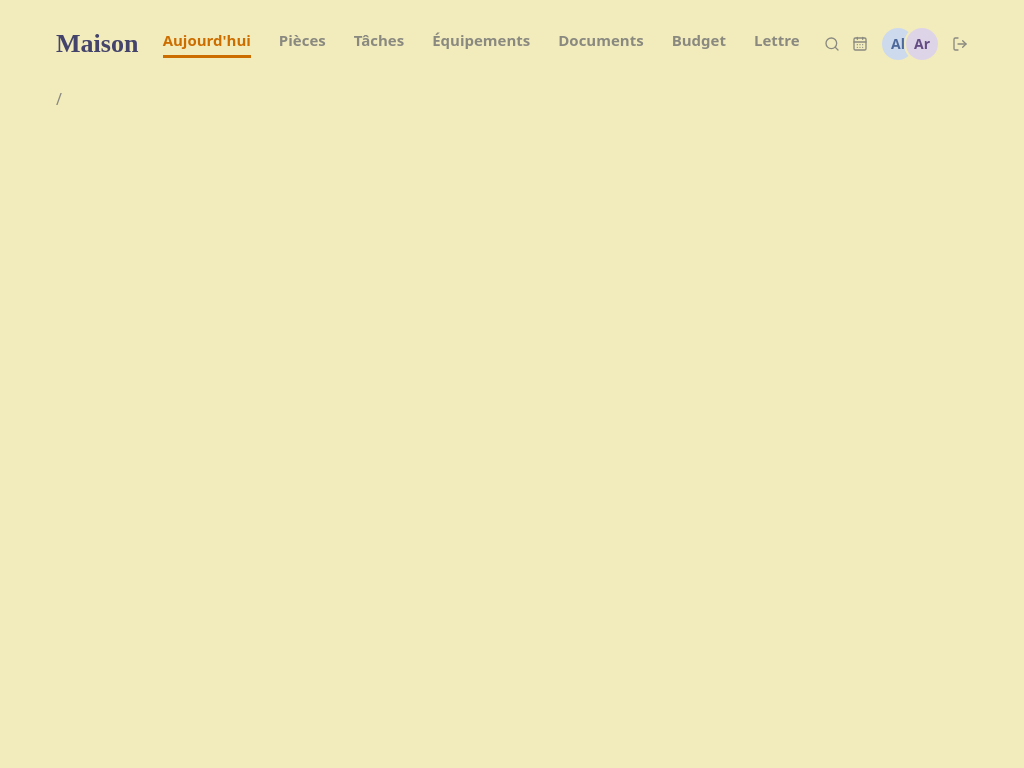
Test: une tâche s’ouvre dans son éditeur, sans changer de page
Type keys "/"
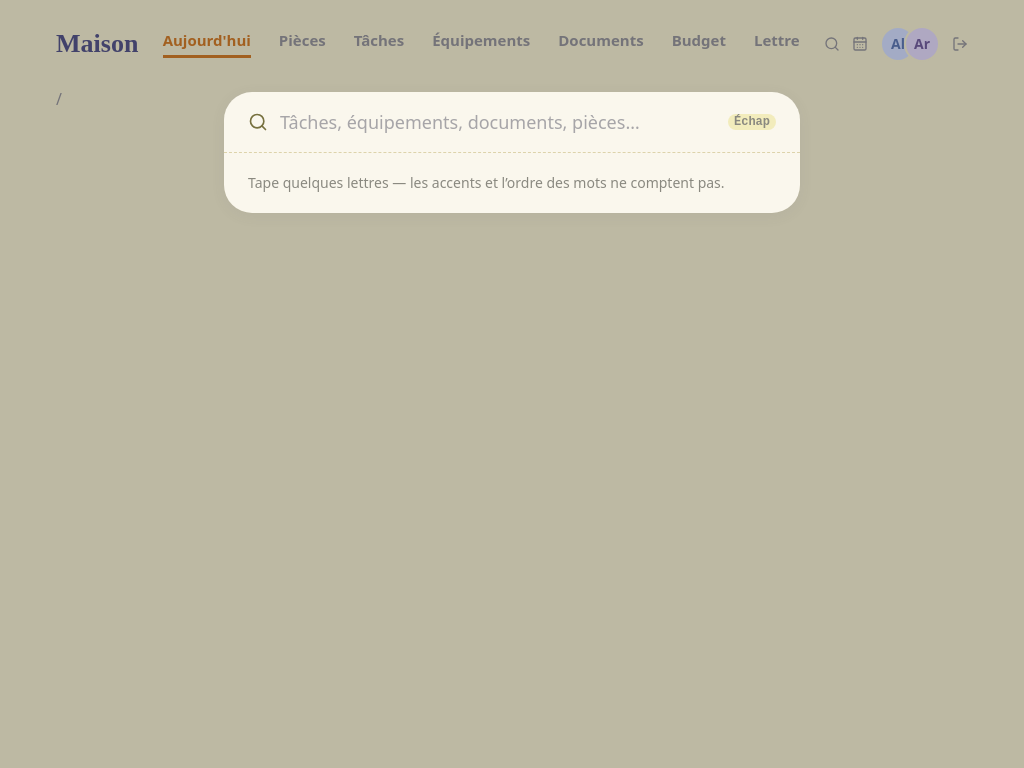
Note: Sans accents et dans le désordre.
In the dropdown named "Chercher dans la maison": (498, 122) x1=280 y1=108 x2=716 y2=136, type "adresse saaq"
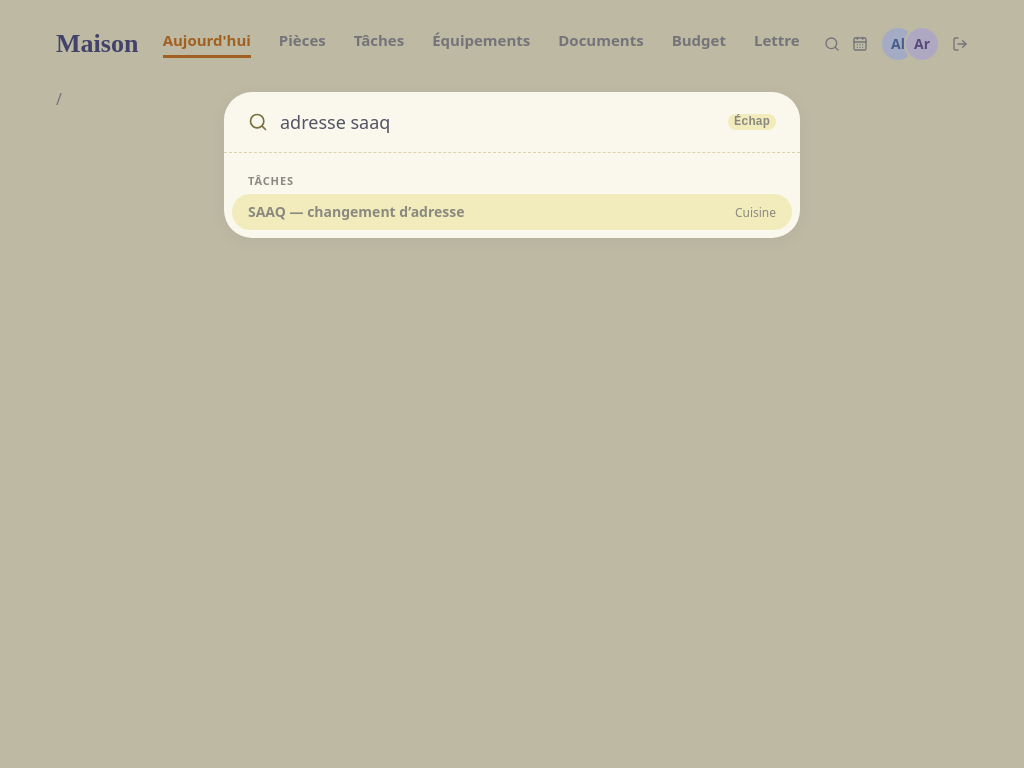
Click the option "SAAQ — changement d’adresse Cuisine": (356, 211) x1=232 y1=194 x2=792 y2=230
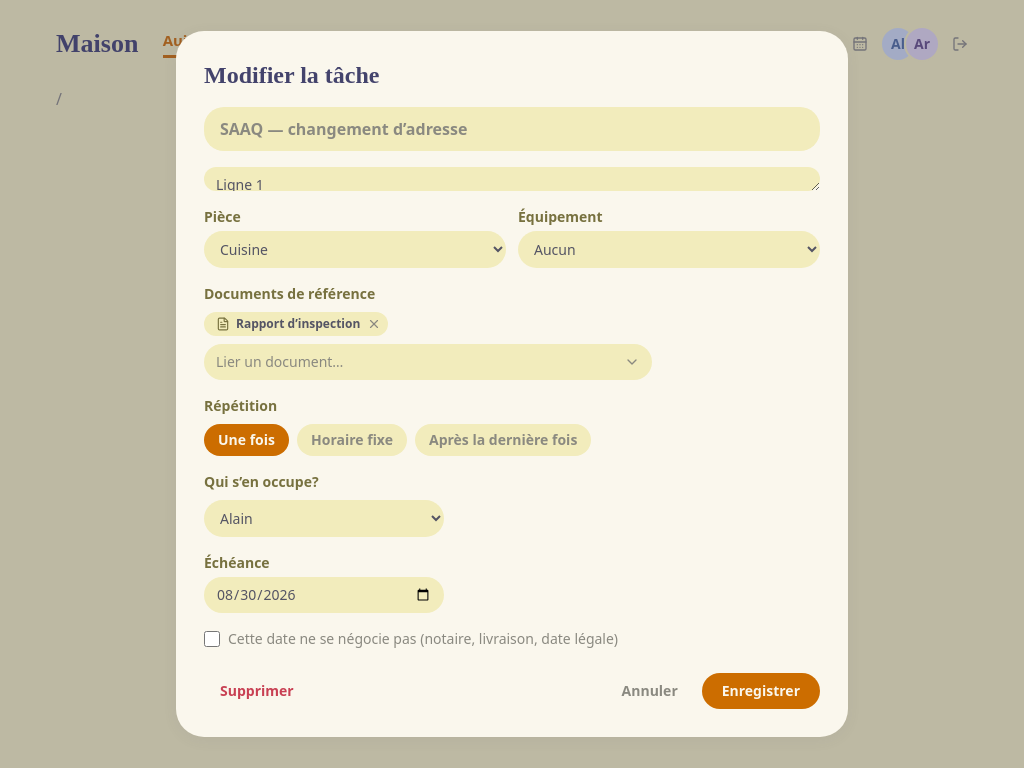
expect the text with test id "emplacement" reads "/": met, box x1=56 y1=88 x2=62 y2=110
expect the field named "Titre" holds "SAAQ — changement d’adresse": met, box x1=204 y1=107 x2=820 y2=151
